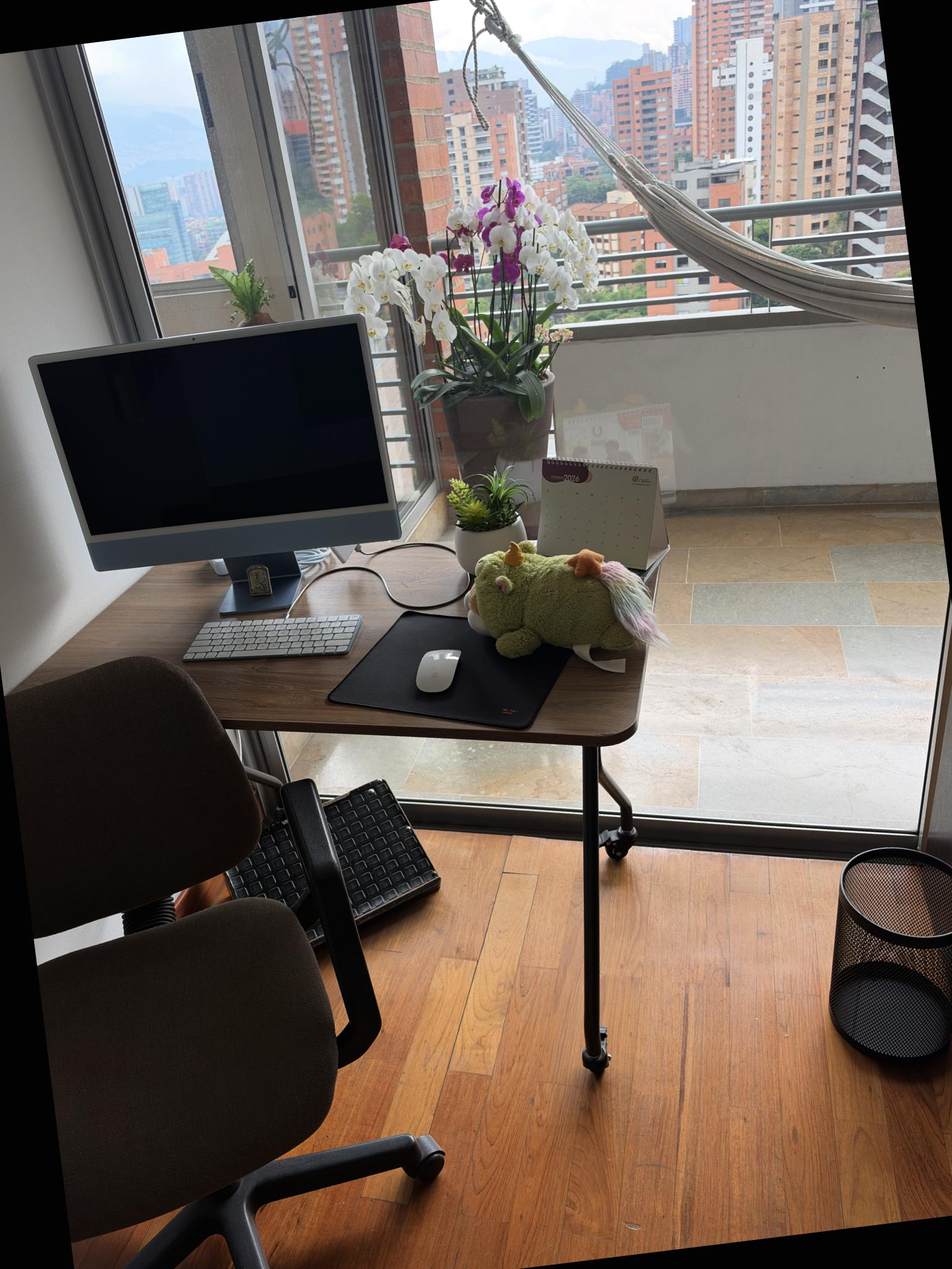peluche_martin: (458, 522, 671, 672)
